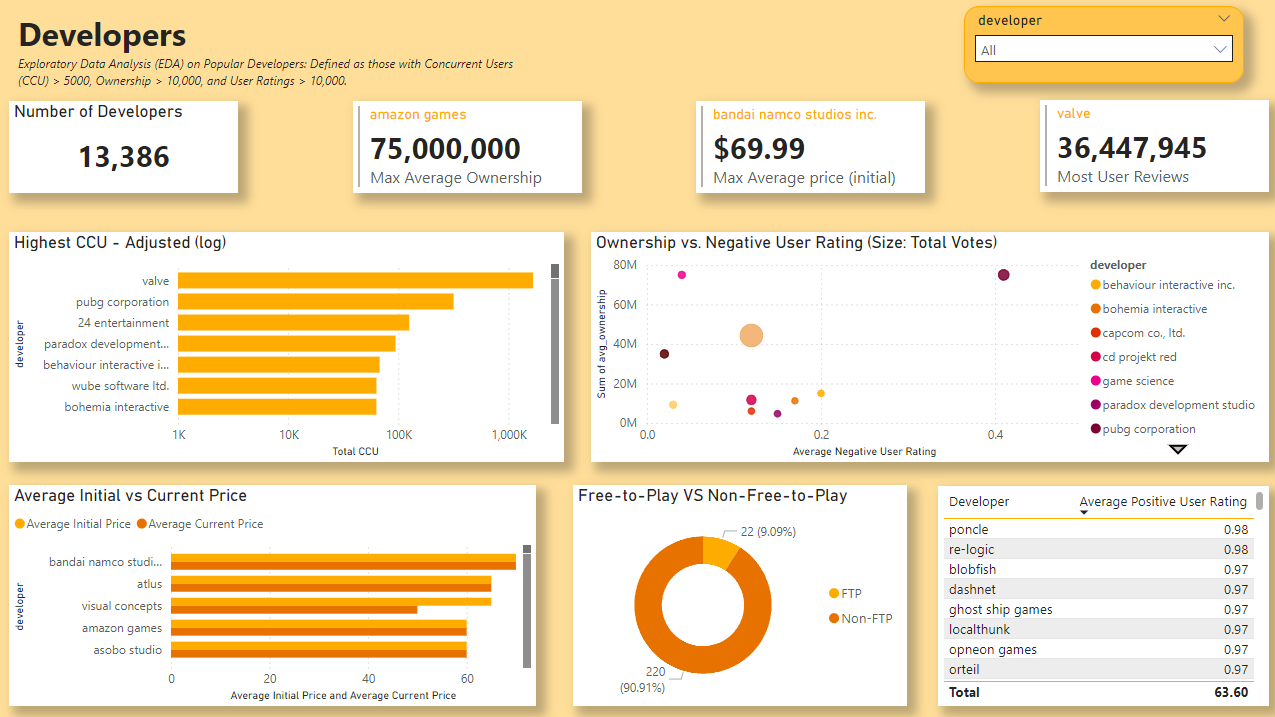

This screenshot's page, from the dashboard's own definition file:
{"tool":"powerbi","page":{"name":"Developers","canvas":[1280,720],"ordinal":0},"visuals":[{"type":"card","title":"Number of Developers","fields":{"Values":["Count(steam_info developers_lookup.developer)"]},"box":[11.7,101.7,229.1,92.4],"z":0},{"type":"clusteredBarChart","title":"Average Initial vs Current Price","fields":{"Category":["steam_info popular_dev_details.developer"],"Y":["Sum(steam_info popular_dev_details.avg_initial_price)","Sum(steam_info popular_dev_details.avg_current_price)"]},"box":[11.7,486.2,527.4,220.6],"z":1000},{"type":"clusteredBarChart","title":"Highest CCU - Adjusted (log)","fields":{"Category":["steam_info popular_dev_details.developer"],"Y":["Sum(steam_info popular_dev_details.total_ccu)"]},"box":[11.7,233,555.3,229.9],"z":2000},{"type":"textbox","box":[11.4,6.8,514.7,89.7],"z":3000},{"type":"slicer","fields":{"Values":["steam_info popular_dev_details.developer"]},"box":[967.1,6.8,279.8,76.8],"z":4000},{"type":"multiRowCard","fields":{"Values":["steam_info popular_dev_details.Highest Ownership Name","Max(steam_info popular_dev_details.avg_ownership)"]},"box":[355.5,101.9,229,92],"z":5000},{"type":"multiRowCard","fields":{"Values":["steam_info popular_dev_details.Expensive Dev","Max(steam_info popular_dev_details.avg_initial_price)"]},"box":[699.2,101.7,229.1,92.4],"z":6000},{"type":"tableEx","fields":{"Values":["steam_info popular_dev_details.developer","Sum(steam_info popular_dev_details.avg_pos_user_rating)"]},"box":[941.2,486.6,330.7,220.5],"z":7000},{"type":"donutChart","title":"Free-to-Play VS Non-Free-to-Play","fields":{"Y":["Sum(steam_info popular_dev_details.ftp_count)","Sum(steam_info popular_dev_details.non_ftp_count)"]},"box":[576.3,486.2,333.2,220.6],"z":8000},{"type":"multiRowCard","fields":{"Values":["steam_info popular_dev_details.Most Reviewed","Sum(steam_info popular_dev_details.total_votes)"]},"box":[1043.1,101,229.1,92.4],"z":9000},{"type":"scatterChart","title":"Ownership vs. Negative User Rating (Size: Total Votes)","fields":{"Category":["steam_info popular_dev_details.developer"],"X":["Sum(steam_info popular_dev_details.avg_neg_user_rating)"],"Y":["Sum(steam_info popular_dev_details.avg_ownership)"],"Size":["Sum(steam_info popular_dev_details.total_votes)"],"Series":["steam_info popular_dev_details.developer"]},"box":[594.2,233,678.1,229.9],"z":9001}]}

Visuals, with their boxes in screenshot pixels (x1, y1, x2, y2), scaled from the page's 1280x720 canvas onto the 1275x717 screenshot:
"Number of Developers" card: (12,101,240,193)
"Average Initial vs Current Price" clusteredBarChart: (12,484,537,704)
"Highest CCU - Adjusted (log)" clusteredBarChart: (12,232,565,461)
textbox: (11,7,524,96)
slicer - steam_info popular_dev_details.developer: (963,7,1242,83)
multiRowCard - steam_info popular_dev_details.Highest Ownership Name x Max(steam_info popular_dev_details.avg_ownership): (354,101,582,193)
multiRowCard - steam_info popular_dev_details.Expensive Dev x Max(steam_info popular_dev_details.avg_initial_price): (696,101,925,193)
tableEx - steam_info popular_dev_details.developer x Sum(steam_info popular_dev_details.avg_pos_user_rating): (938,485,1267,704)
"Free-to-Play VS Non-Free-to-Play" donutChart: (574,484,906,704)
multiRowCard - steam_info popular_dev_details.Most Reviewed x Sum(steam_info popular_dev_details.total_votes): (1039,101,1267,193)
"Ownership vs. Negative User Rating (Size: Total Votes)" scatterChart: (592,232,1267,461)
